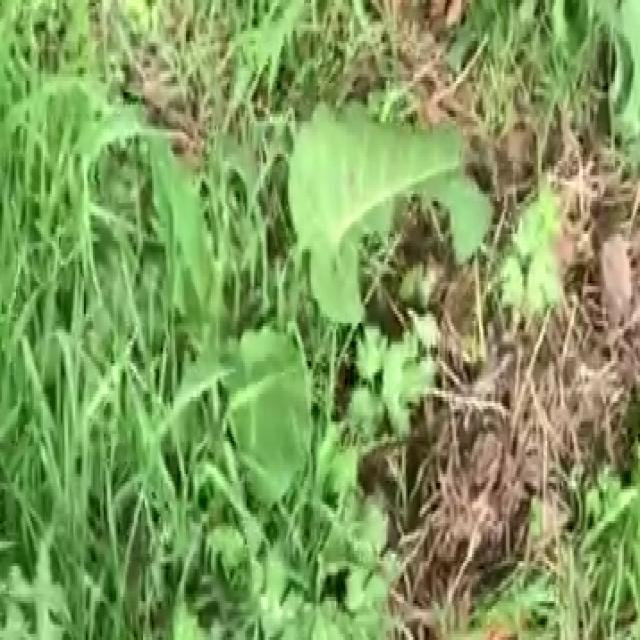organic waste: (134, 58, 536, 640)
